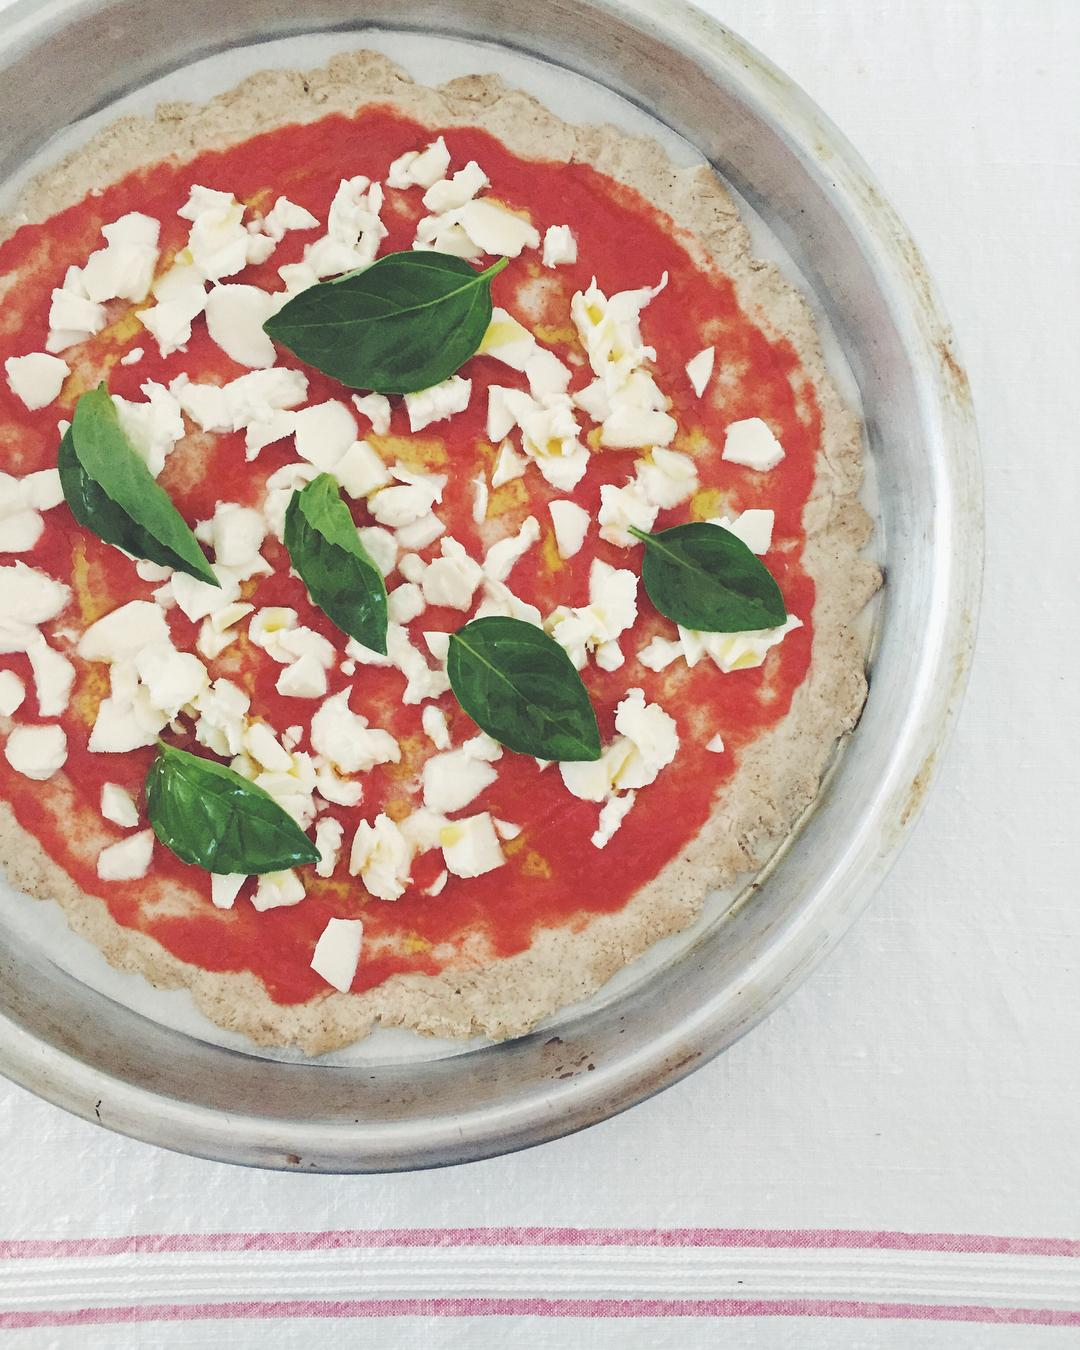Basil: (55, 381, 223, 588), (262, 248, 492, 392), (145, 742, 322, 873), (450, 616, 603, 762), (284, 472, 391, 657), (637, 523, 787, 634)
Cheese: (0, 174, 163, 415), (391, 471, 637, 616), (72, 597, 251, 757), (239, 393, 570, 471), (280, 174, 598, 248), (163, 174, 280, 371), (571, 284, 681, 447), (0, 562, 72, 782), (564, 684, 682, 801), (354, 811, 510, 898), (307, 685, 402, 812), (0, 458, 72, 562), (309, 915, 366, 995)
Pizza: (0, 28, 886, 1074)
